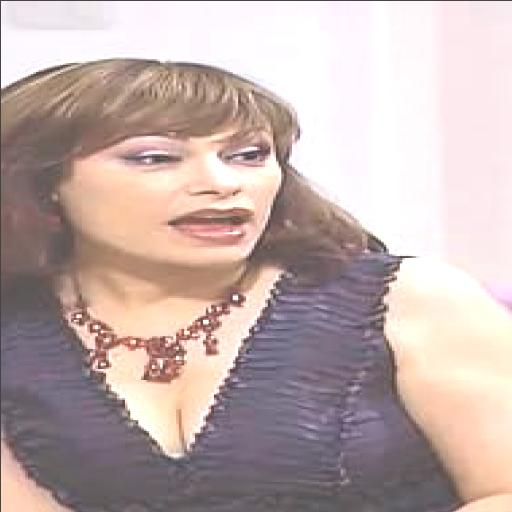zeineb: (52, 129, 280, 270)
